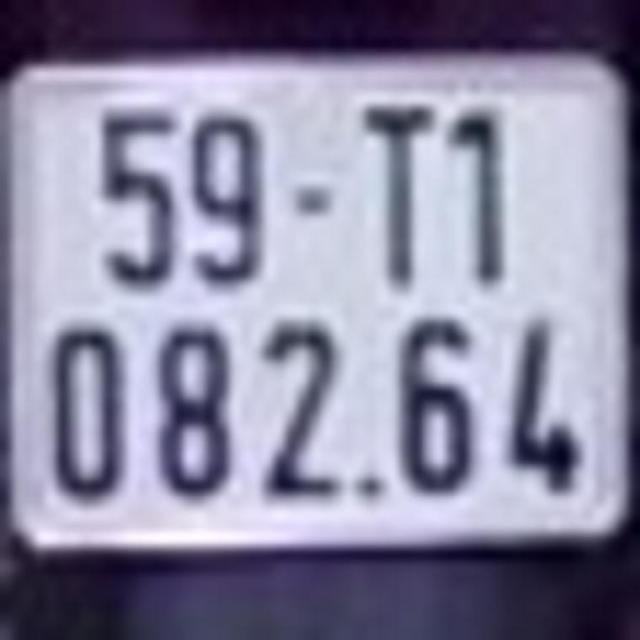0: (47, 320, 132, 502)
1: (449, 92, 514, 292)
2: (253, 310, 347, 500)
4: (502, 304, 589, 501)
5: (89, 99, 180, 295)
6: (392, 308, 480, 494)
8: (150, 316, 237, 499)
9: (187, 101, 272, 292)
T: (356, 92, 441, 294)
